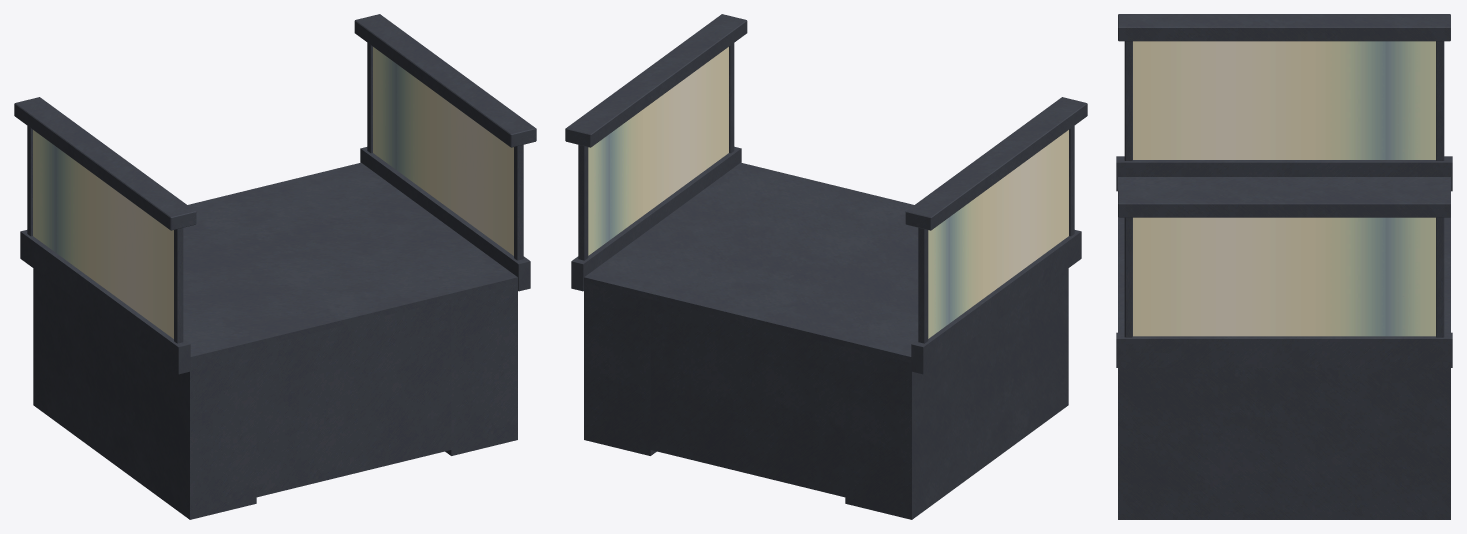
Rendered from AssetsC.fbx.
The picture shows the model from 3 angles, left to right: view 1: azimuth 30°, elevation 25°; view 2: azimuth 150°, elevation 25°; view 3: azimuth 270°, elevation 25°; orthographic projection. The views are drawn at different scales.
Parts seen in each view (by area): view 1: SM_VA_AssetsC.mo; view 2: SM_VA_AssetsC.mo; view 3: SM_VA_AssetsC.mo.
Part boxes in pixels (left/top/right/bottom): SM_VA_AssetsC.mo: left=14, top=14, right=536, bottom=519; SM_VA_AssetsC.mo: left=565, top=14, right=1087, bottom=519; SM_VA_AssetsC.mo: left=1116, top=14, right=1452, bottom=519.
Bounding box in the file's own units: 2.82 × 2.26 × 2.11.
